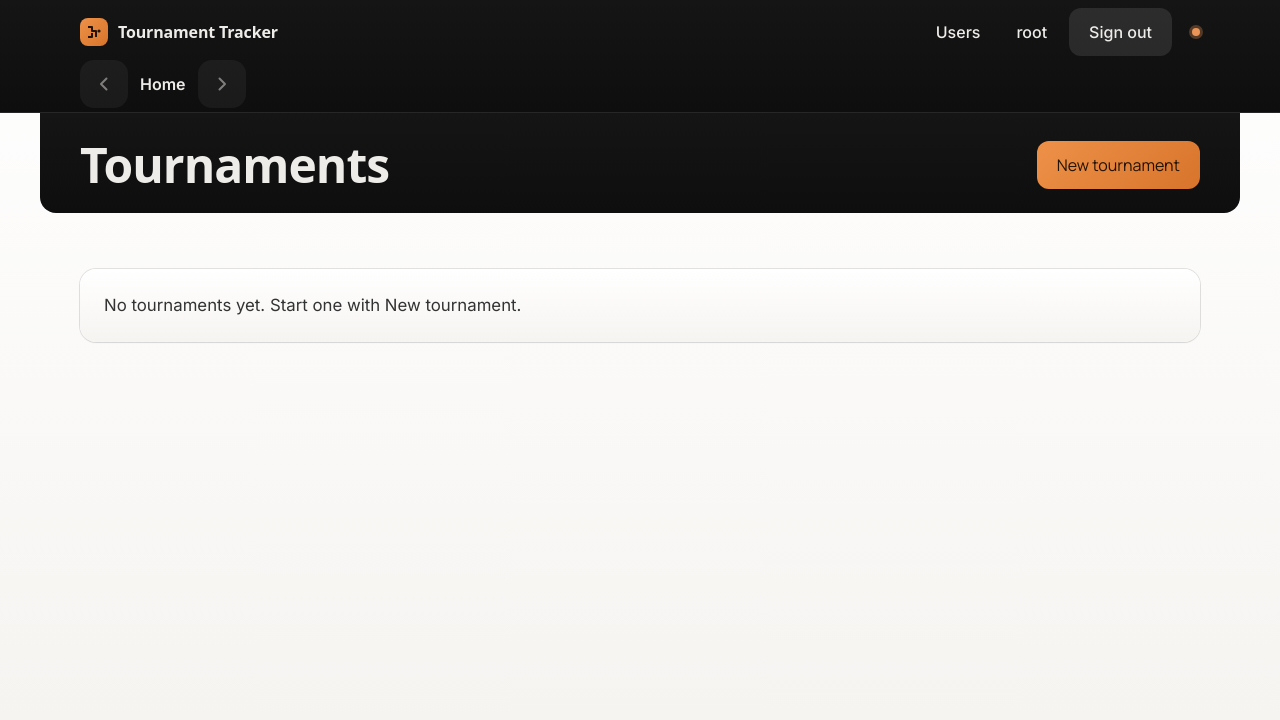
Test: the Users page is at /users, reached from the nav bar by an admin
The width and height of the screenshot is (1280, 720).
What coordinates should you click on to do the following:
click the link "Users"
I would click on:
 (958, 32)
Its box is [936, 22, 980, 42].
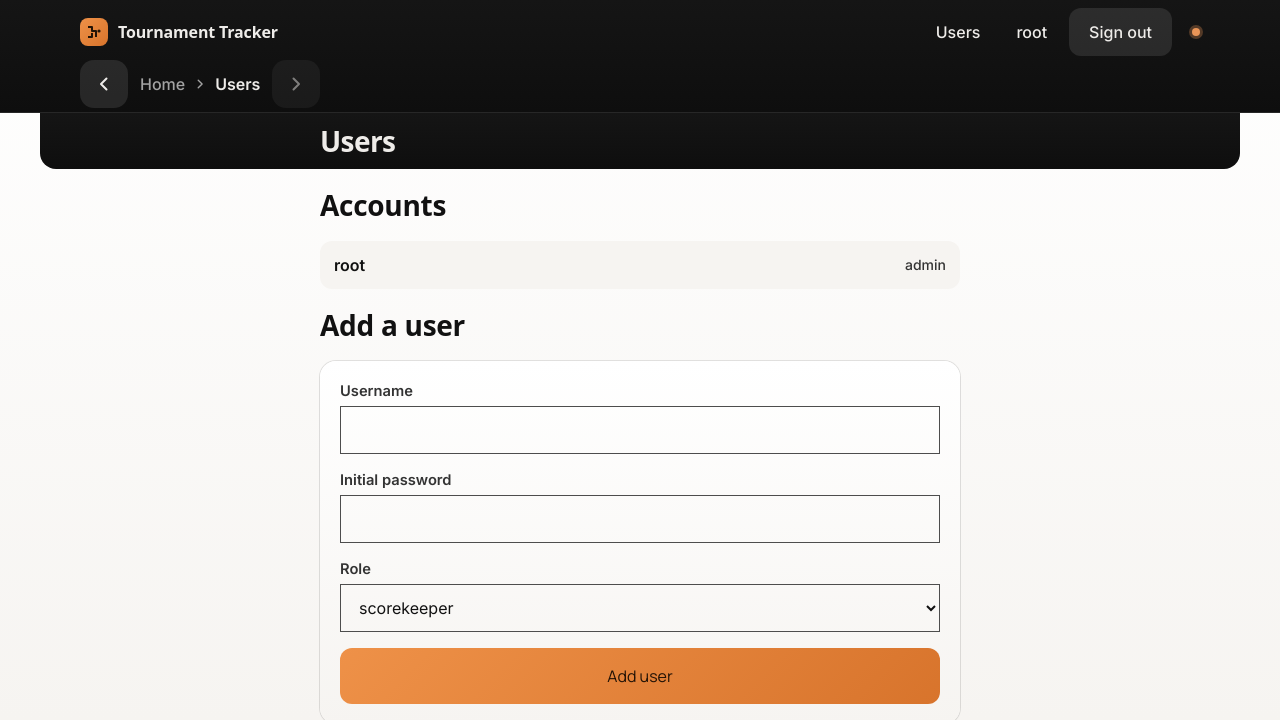
Expected: the heading "Accounts" is shown, [320, 186, 446, 224]
